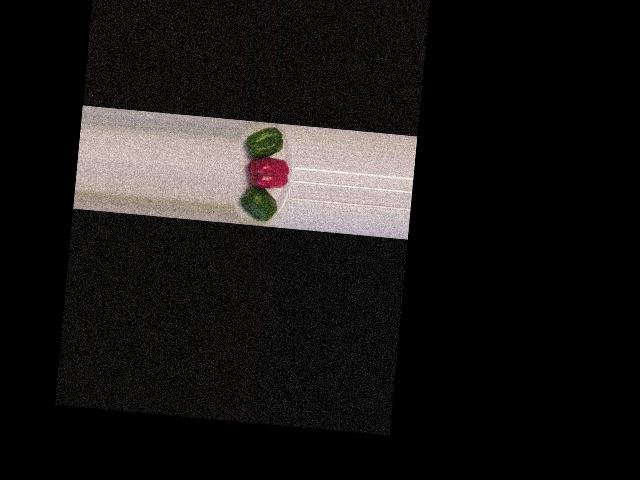bell_pepper: (235, 184, 283, 224)
